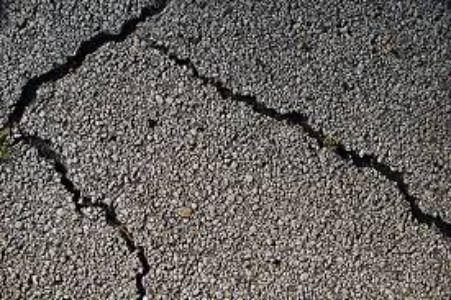crack: (143, 47, 451, 238), (16, 124, 152, 300), (0, 1, 174, 133)
